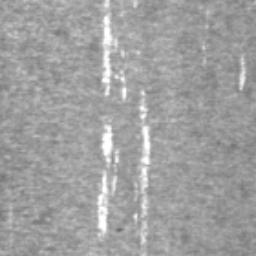White rust: (96, 123, 120, 236), (101, 11, 128, 100), (133, 124, 152, 245), (238, 51, 247, 91), (138, 89, 150, 119), (103, 0, 112, 8), (120, 46, 126, 58)
